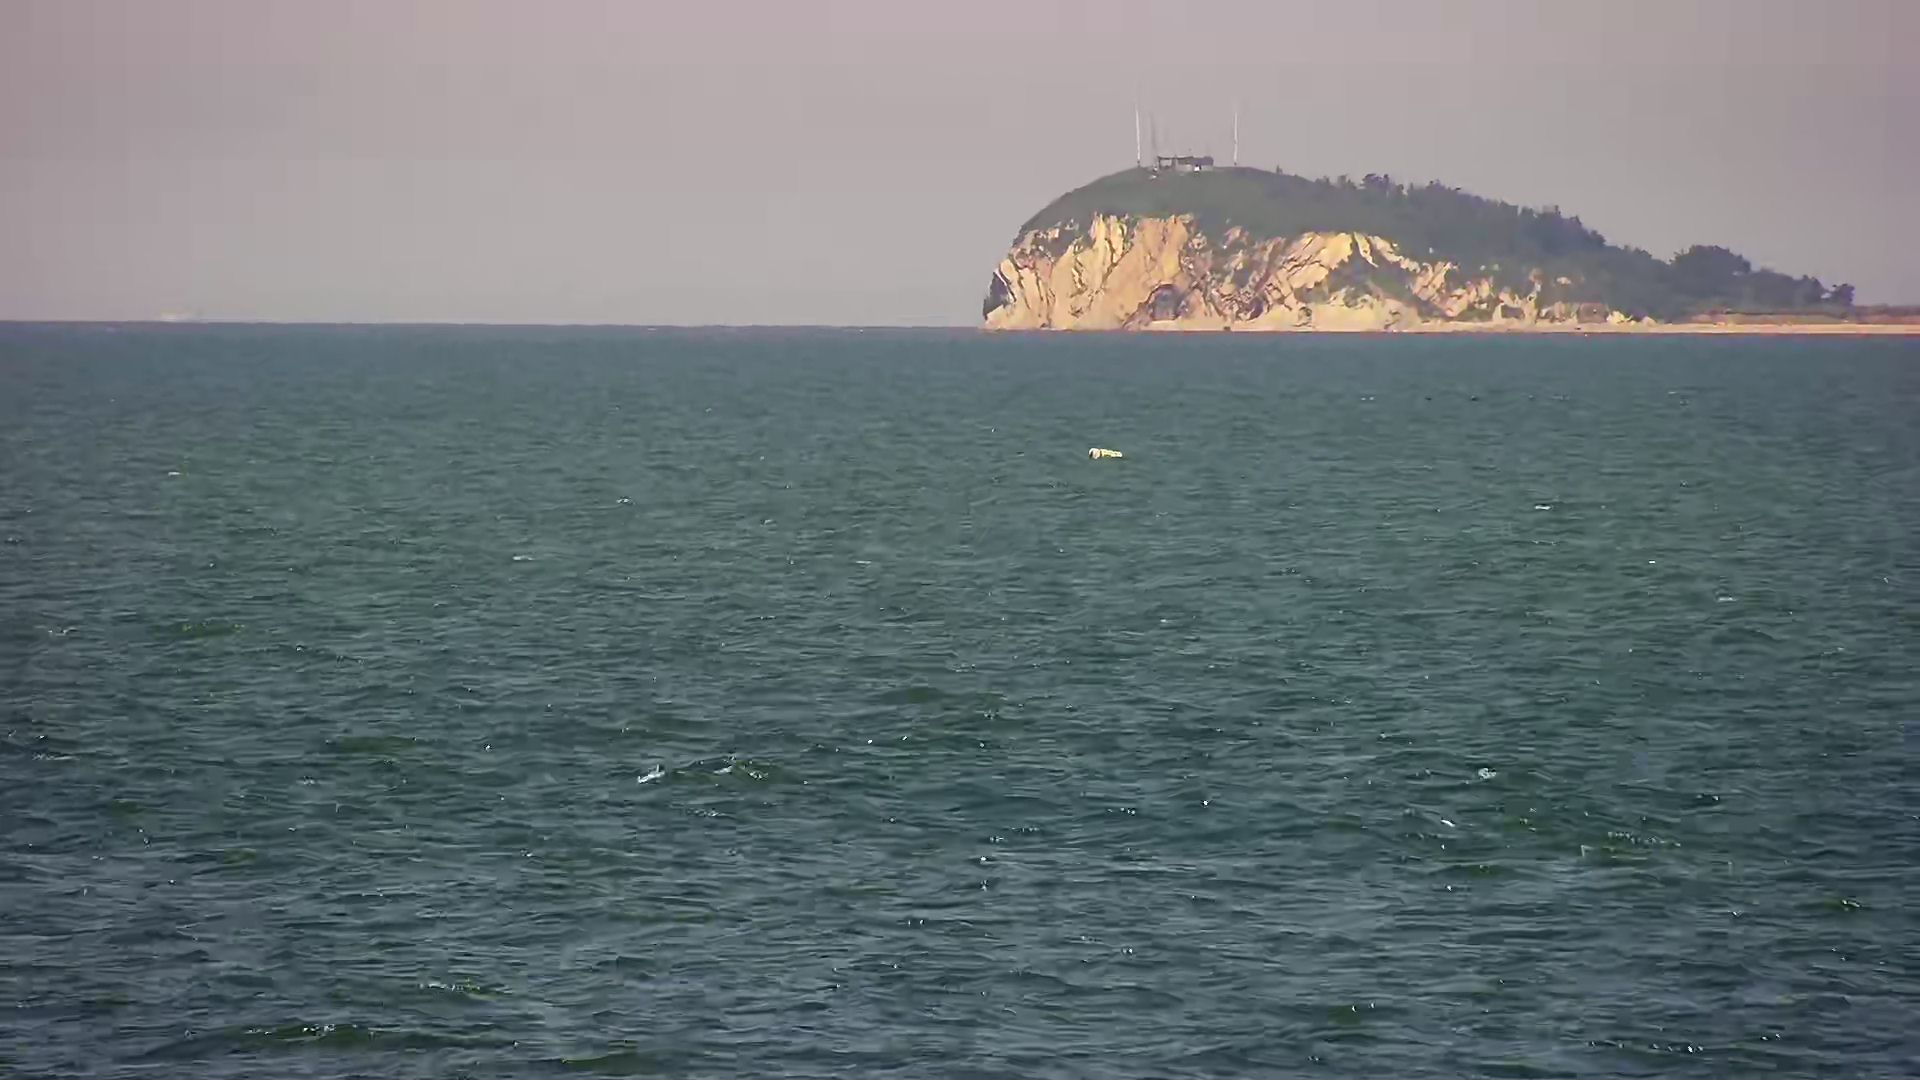rock: (952, 125, 1920, 356)
rubbish: (1079, 435, 1145, 471)
